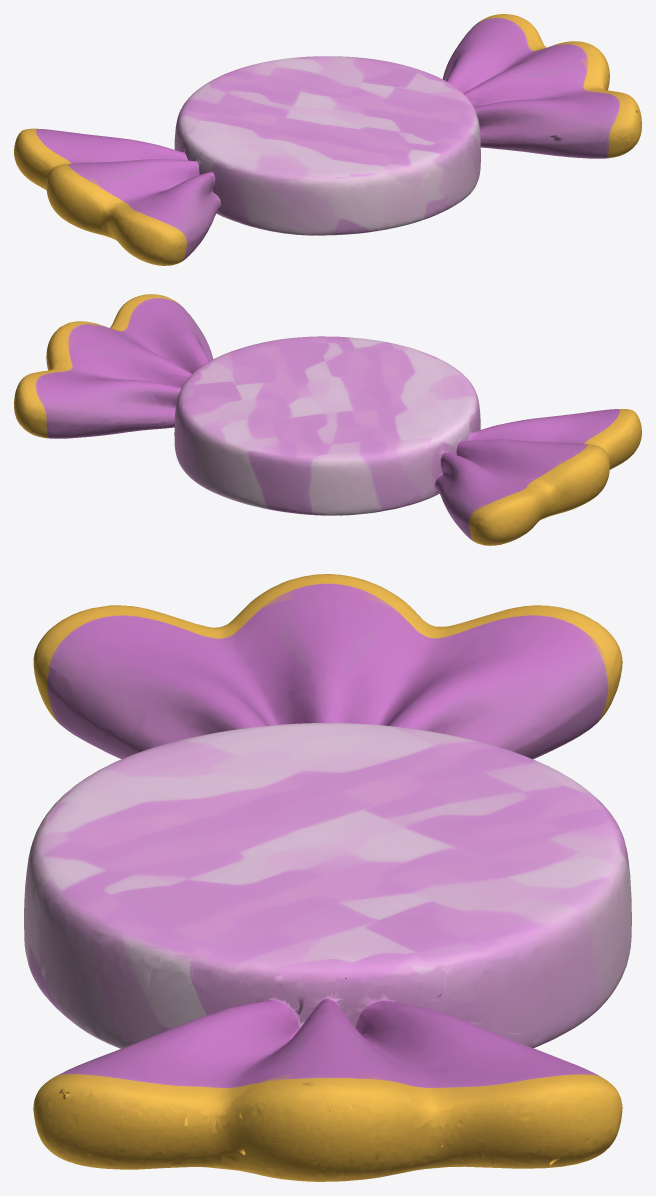
Rendered from Candy.fbx.
3 renders of one model, top to bottom at view 1: azimuth 30°, elevation 25°; view 2: azimuth 150°, elevation 25°; view 3: azimuth 270°, elevation 25°, orthographic. The views are drawn at different scales.
Parts seen in each view (by area): view 1: Mesh_0; view 2: Mesh_0; view 3: Mesh_0.
Boxes of the visible parts, x1=… form: Mesh_0: x1=14, y1=14, x2=641, y2=265; Mesh_0: x1=14, y1=294, x2=641, y2=545; Mesh_0: x1=24, y1=574, x2=631, y2=1181.
Size of the model in its own units: 190 by 20.87 by 91.2.
Materials: 1 (1 with a texture image).
